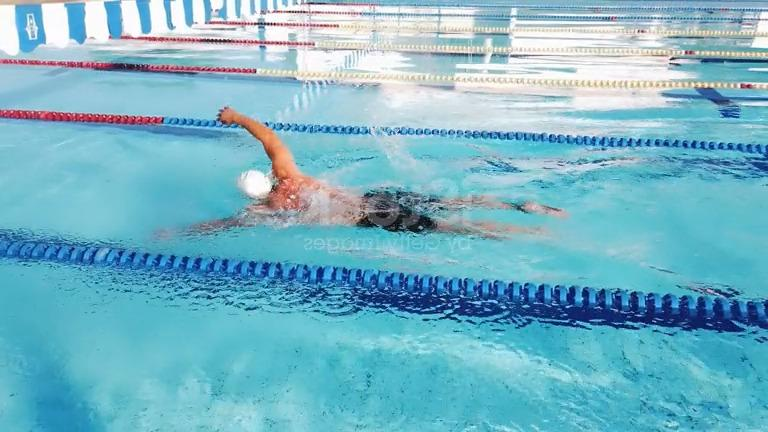Swimming: (167, 119, 582, 254)
